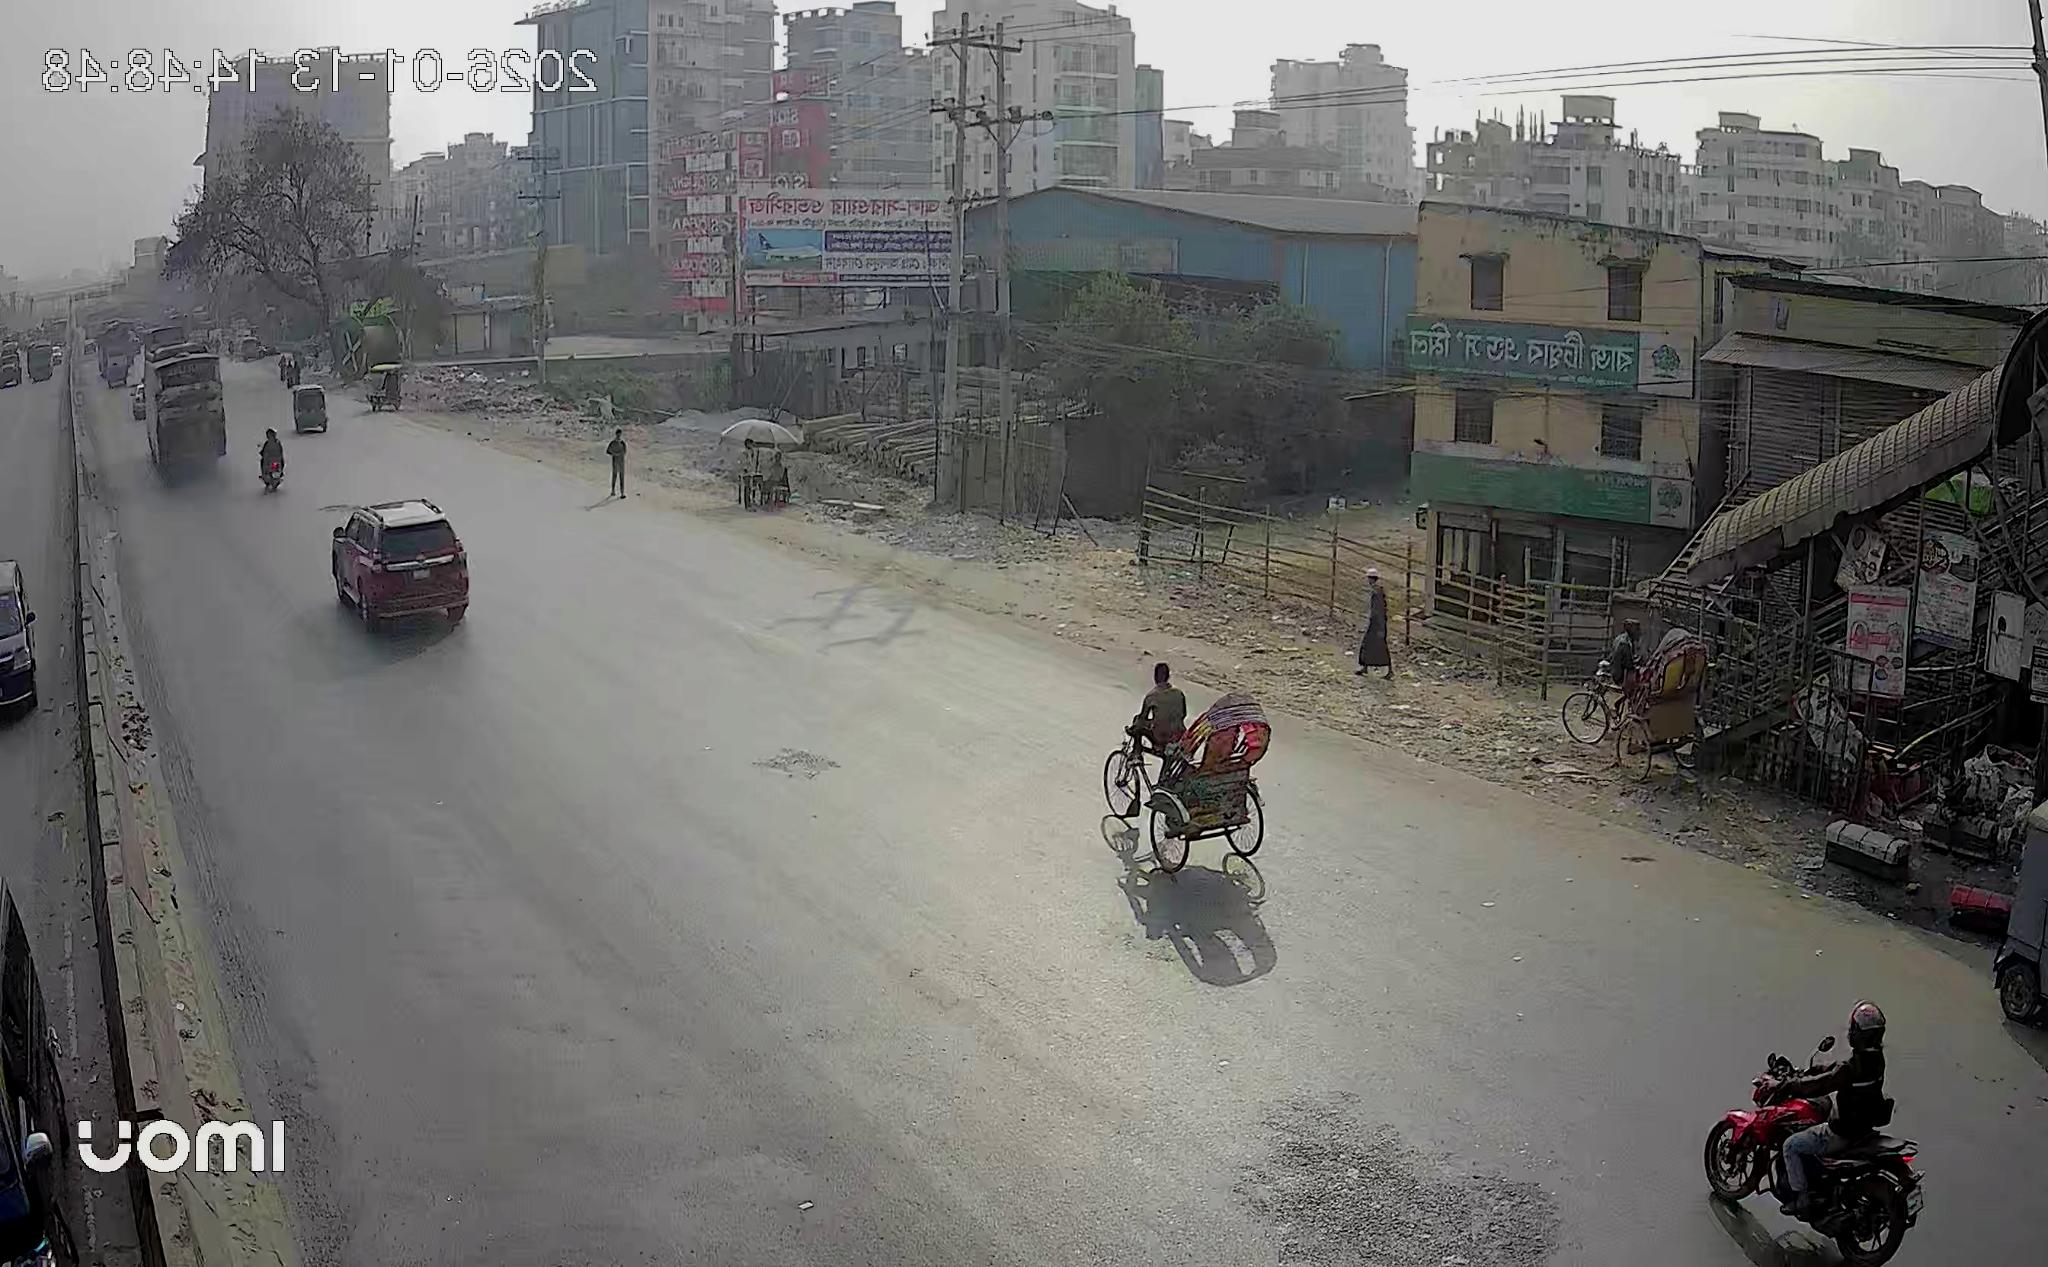Bus: (145, 345, 228, 474)
Cycle Rickshaw: (1104, 680, 1271, 872)
Jeep-SUV: (331, 499, 470, 629)
Motorcycle: (1706, 1001, 1925, 1267), (260, 429, 285, 492)
